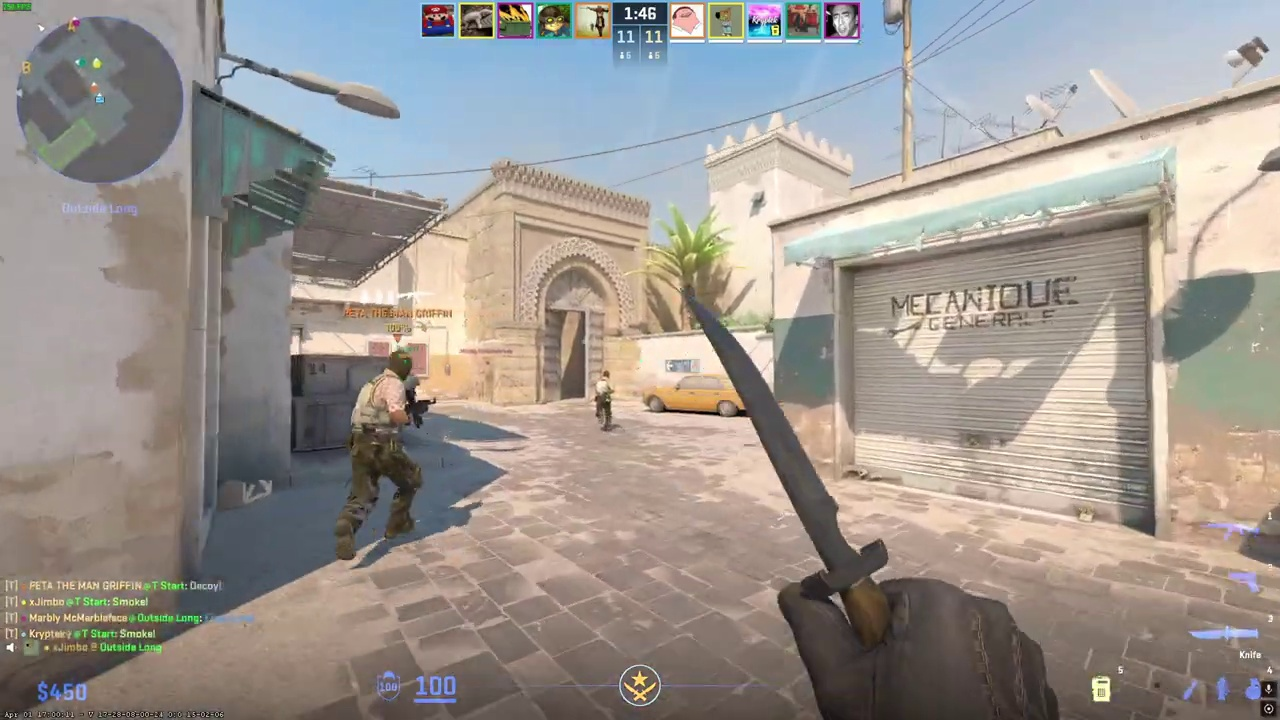Terrorist: (336, 349, 424, 562), (595, 370, 615, 432)
